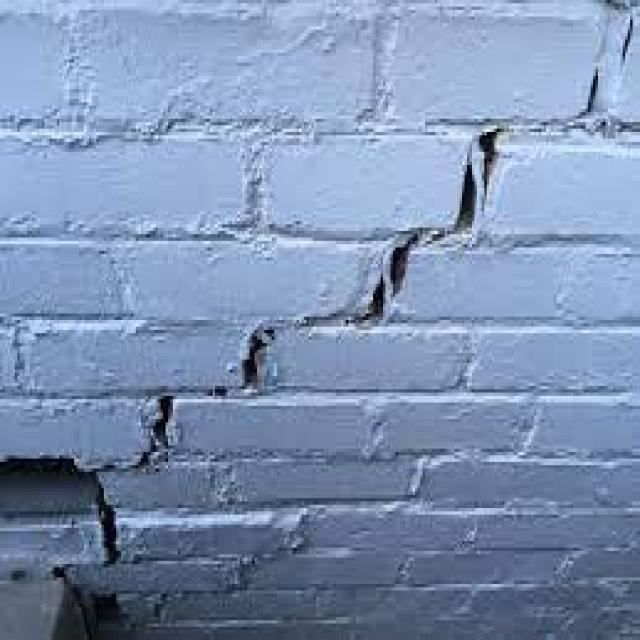Crack: (0, 7, 635, 574)
